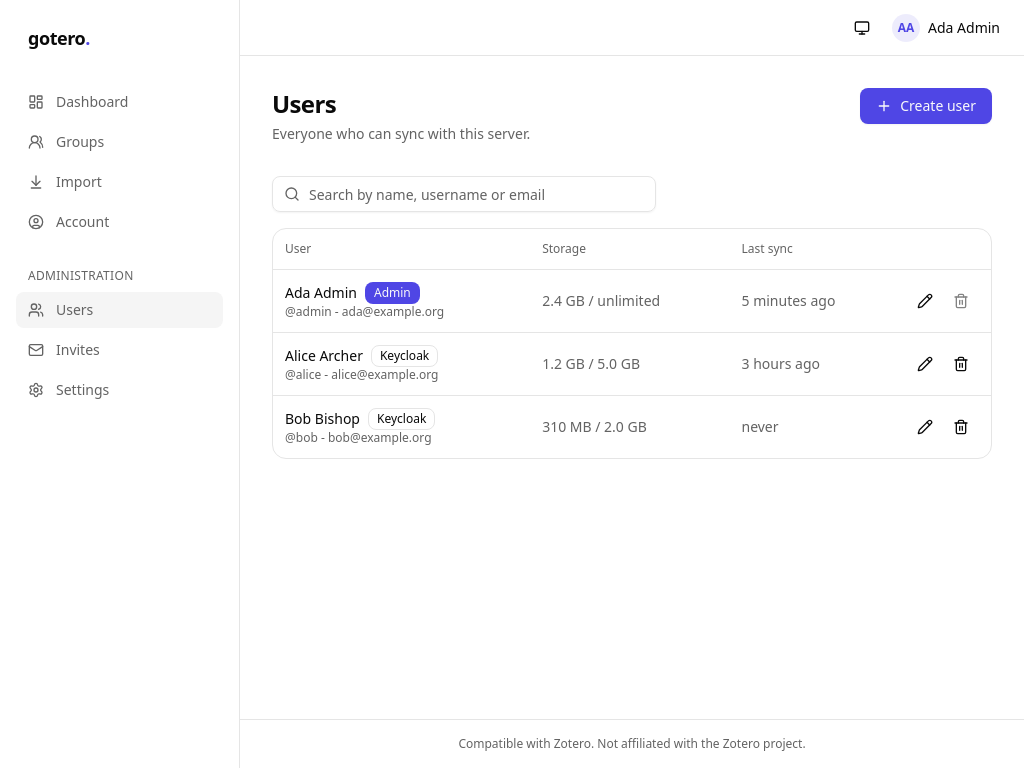
admin users › lists users and filters by search
This screenshot has width=1024, height=768.
Expected: the text "Alice Archer" is shown, [285,346,363,366]
Expected: the text "Bob Bishop" is shown, [285,408,360,428]
Type "bob" into the field named "Search users" at point(464, 194), box [272,176,656,212]
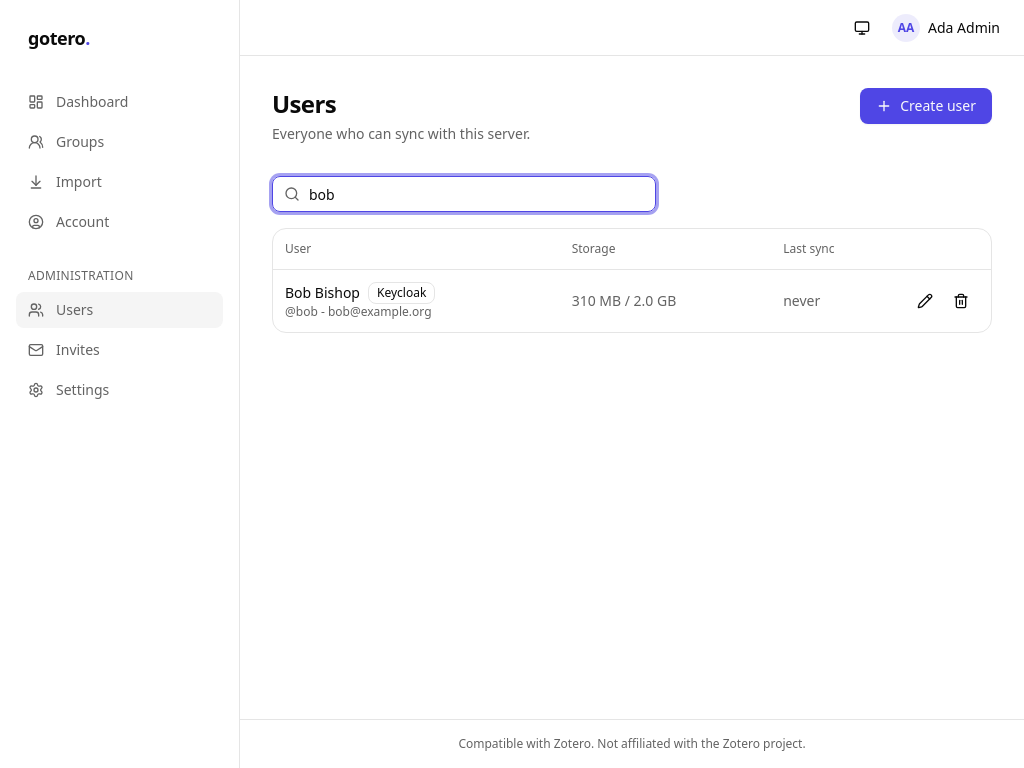
Expected: the text "Bob Bishop" is shown, [285,282,360,302]
Result: the text "Alice Archer" is gone
